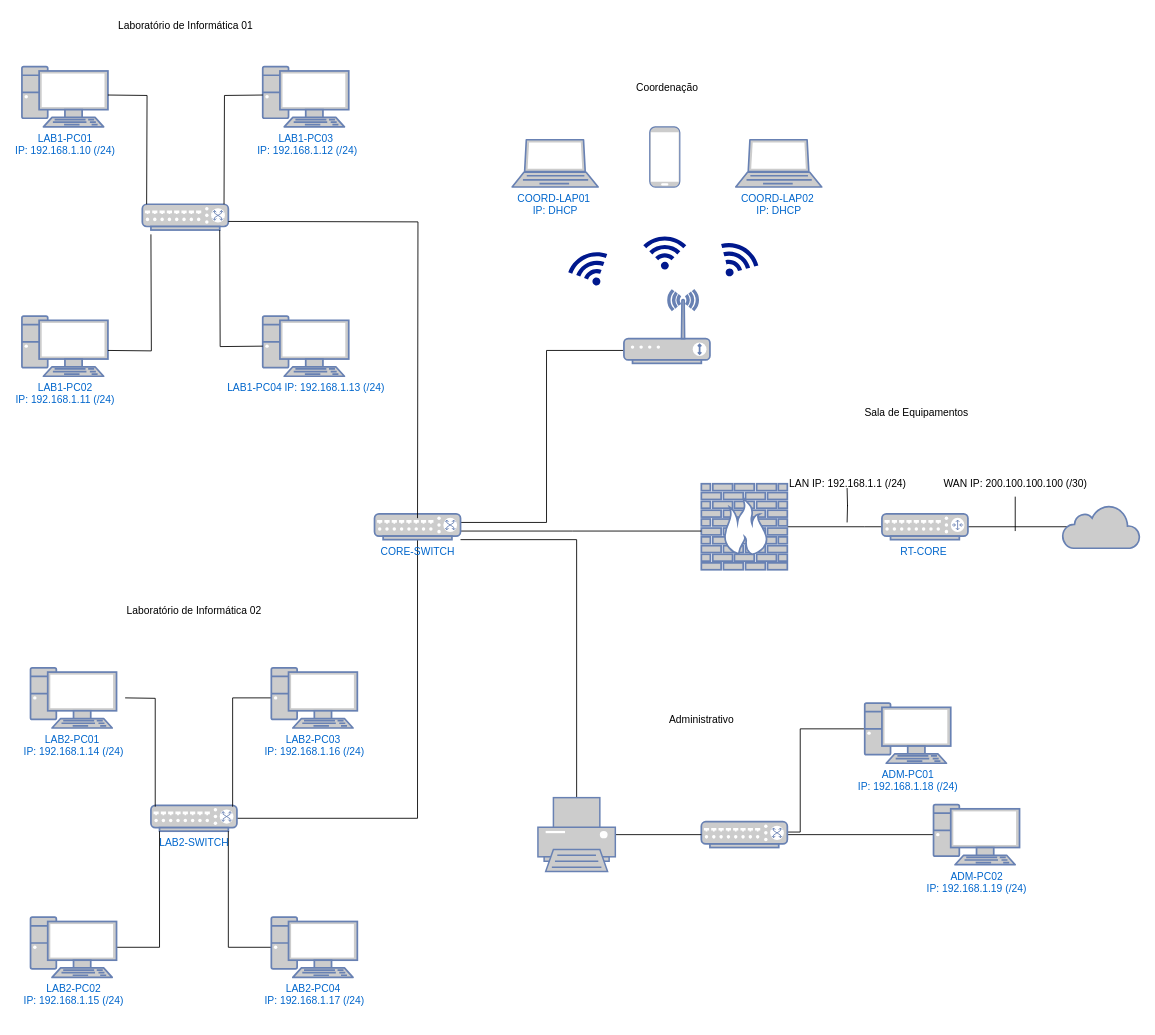
This 1155x1035 diagram has some shape labels left out. Each missing label, with the centre of its shape:
ADM-PRINT IP: 192.168.1.2 (/24): pixel 576 834
ADM-SWITCH: pixel 744 834
COORD-TAB01 IP: DHCP: pixel 664 156
COORD-WIFI IP: 192.168.1.3 (/24): pixel 666 326
FIREWALL-SERVER IP: 192.168.1.10 (/24): pixel 744 526
Internet: pixel 1100 526
LAB1-SWITCH: pixel 185 216
